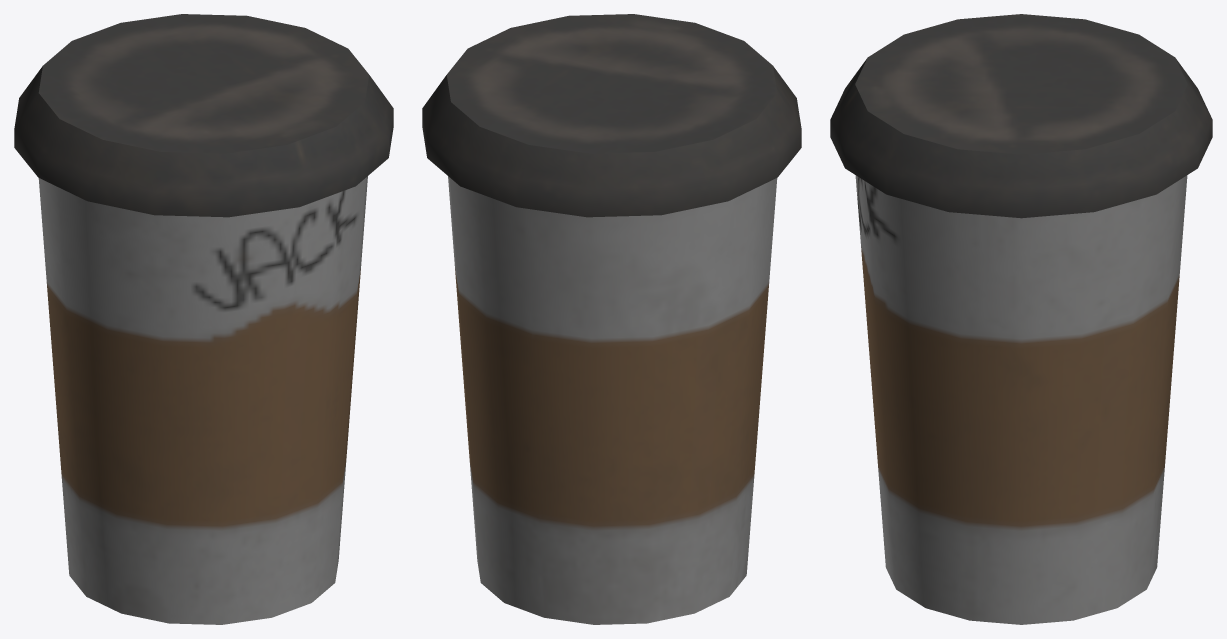
File: SM_Small_Trash_Bottle_04.FBX
3 renders of one model, left to right at view 1: azimuth 30°, elevation 25°; view 2: azimuth 150°, elevation 25°; view 3: azimuth 270°, elevation 25°, orthographic.
Parts seen in each view (by area): view 1: SM_Small_Trash_Bottle_04_LOD0; view 2: SM_Small_Trash_Bottle_04_LOD0; view 3: SM_Small_Trash_Bottle_04_LOD0.
Boxes of the visible parts, bbox=[...] form: SM_Small_Trash_Bottle_04_LOD0: bbox=[14, 14, 393, 624]; SM_Small_Trash_Bottle_04_LOD0: bbox=[422, 14, 801, 624]; SM_Small_Trash_Bottle_04_LOD0: bbox=[830, 14, 1212, 624].
Size of what is drawn, in the model's own units: 6.42 by 6.42 by 8.96.
